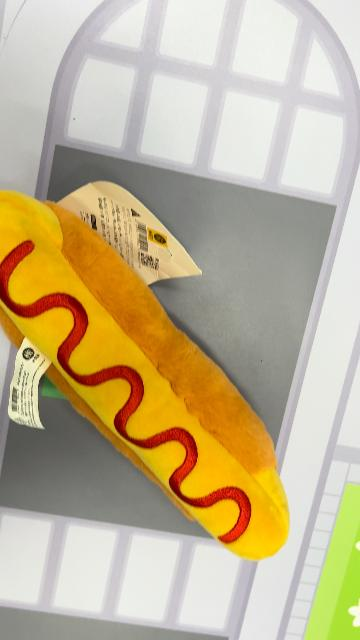hotdog: (1, 188, 291, 562)
